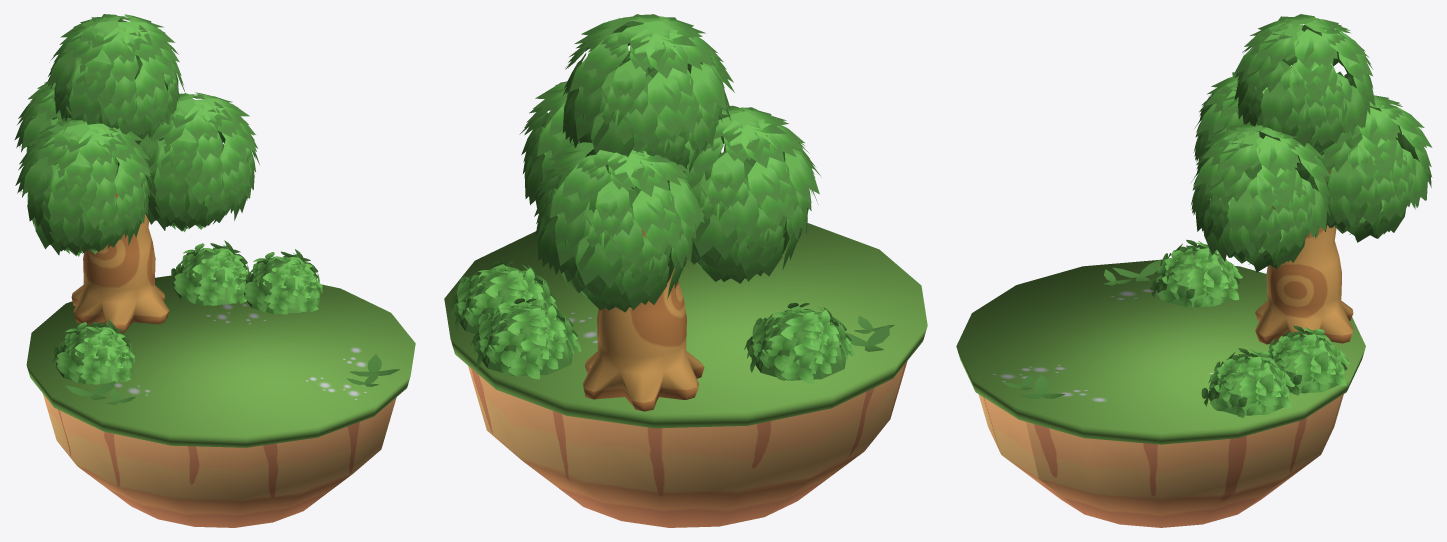
The model's file is isla.glb.
3 views of the same model, side by side, from view 1: azimuth 30°, elevation 25°; view 2: azimuth 150°, elevation 25°; view 3: azimuth 270°, elevation 25° (orthographic). The views are drawn at different scales.
Parts seen in each view (by area): view 1: suelo, Esfera, Círculo, Esfera.002, Esfera.005, Esfera.001; view 2: suelo, Esfera, Círculo, Esfera.002, Esfera.001, Esfera.005; view 3: suelo, Esfera, Círculo, Esfera.005, Esfera.002, Esfera.001.
Part boxes in pixels (bbox=[...]): suelo: bbox=[26, 274, 415, 527]; Esfera: bbox=[14, 14, 259, 256]; Círculo: bbox=[71, 193, 169, 332]; Esfera.002: bbox=[52, 319, 134, 384]; Esfera.005: bbox=[243, 249, 322, 314]; Esfera.001: bbox=[169, 240, 249, 305]; suelo: bbox=[444, 223, 927, 527]; Esfera: bbox=[519, 14, 821, 312]; Círculo: bbox=[583, 208, 704, 411]; Esfera.002: bbox=[744, 303, 854, 383]; Esfera.001: bbox=[471, 298, 581, 379]; Esfera.005: bbox=[449, 261, 558, 335]; suelo: bbox=[956, 259, 1365, 527]; Esfera: bbox=[1191, 14, 1432, 272]; Círculo: bbox=[1255, 170, 1353, 344]; Esfera.005: bbox=[1201, 348, 1294, 417]; Esfera.002: bbox=[1149, 239, 1242, 309]; Esfera.001: bbox=[1268, 325, 1349, 395].
Size of the model in its own units: 5.51 by 6.54 by 6.41.
3 materials, 3 textured.
